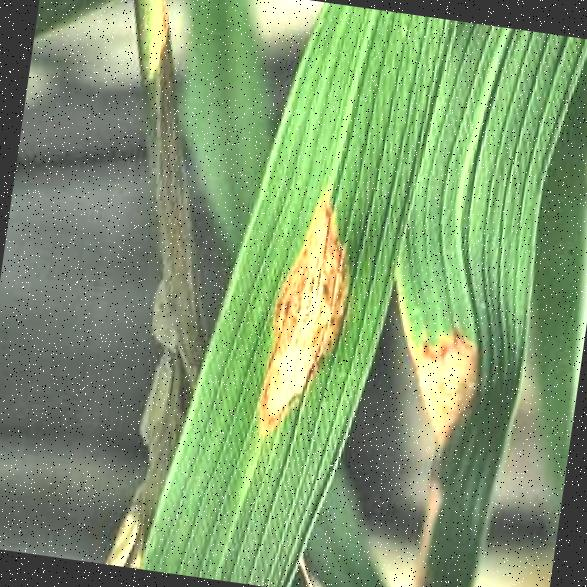Leaf_smut: (233, 168, 367, 470), (390, 306, 502, 460)
